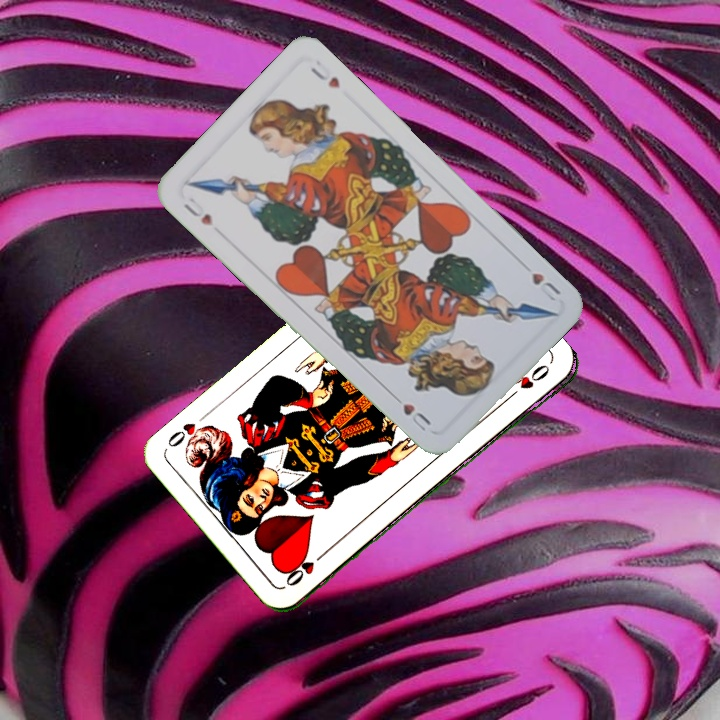HO: (281, 546, 330, 589)
HU: (527, 268, 564, 304), (179, 193, 215, 229)
